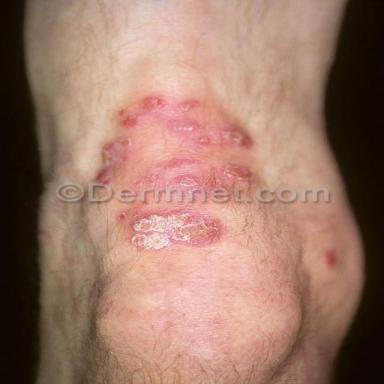Psoriasis: (97, 93, 254, 189), (118, 209, 227, 250)
